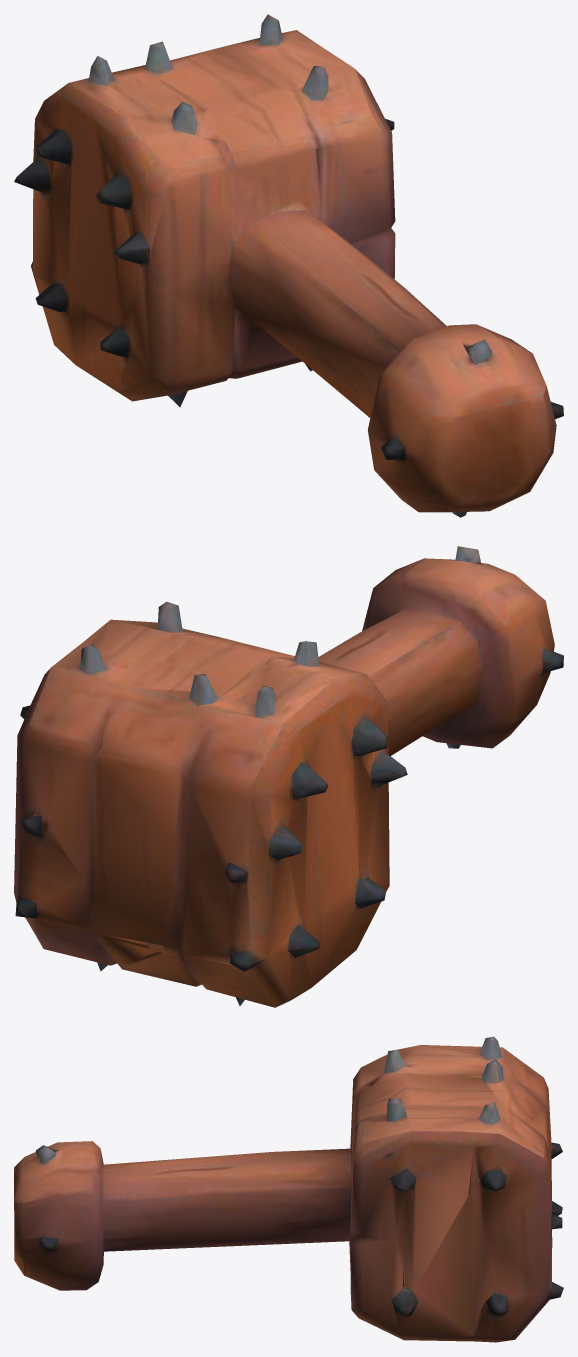
Rendered from lg-troll-club.glb.
3 views of the same model, one above another, from view 1: azimuth 30°, elevation 25°; view 2: azimuth 150°, elevation 25°; view 3: azimuth 270°, elevation 25° (orthographic). The views are drawn at different scales.
Visible parts, largest first — view 1: geometry_0; view 2: geometry_0; view 3: geometry_0.
Part boxes in pixels (left/top/right/bottom): geometry_0: left=14, top=14, right=563, bottom=517; geometry_0: left=14, top=546, right=563, bottom=1007; geometry_0: left=14, top=1036, right=563, bottom=1342.
Size of the model in its own units: 0.483 by 0.4899 by 1.
1 material, 1 textured.
